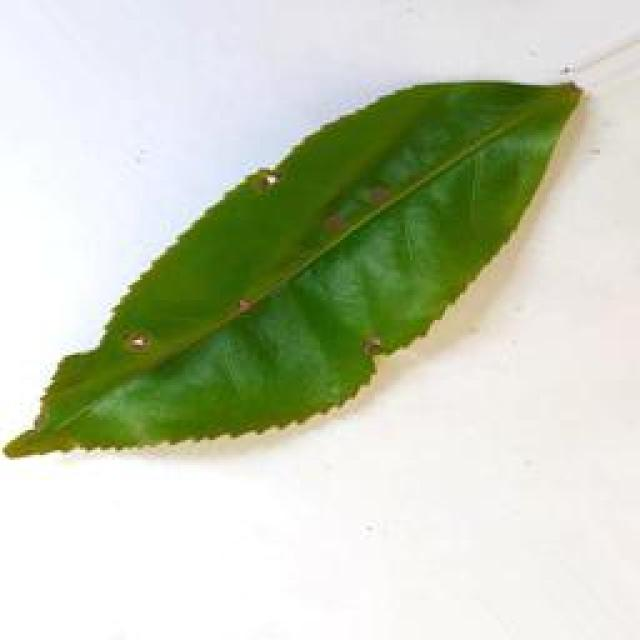Helopeltis: (6, 80, 583, 478)
